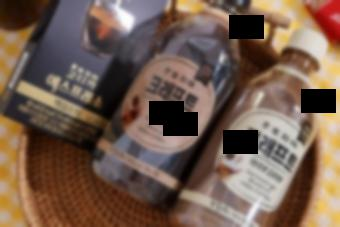georgiacraft_black: (91, 0, 241, 187)
